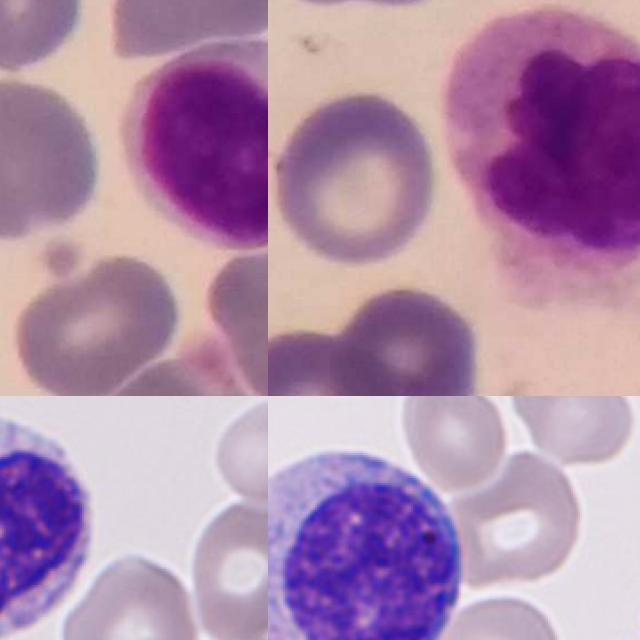Lymphocyte: (268, 437, 475, 640), (122, 33, 268, 251), (0, 398, 103, 640)
Monocyte: (445, 3, 640, 280)
RBC: (448, 446, 589, 594), (57, 545, 203, 640), (181, 496, 268, 640), (397, 396, 509, 494), (503, 396, 640, 469), (416, 592, 563, 640), (208, 396, 268, 506), (231, 561, 268, 640)
